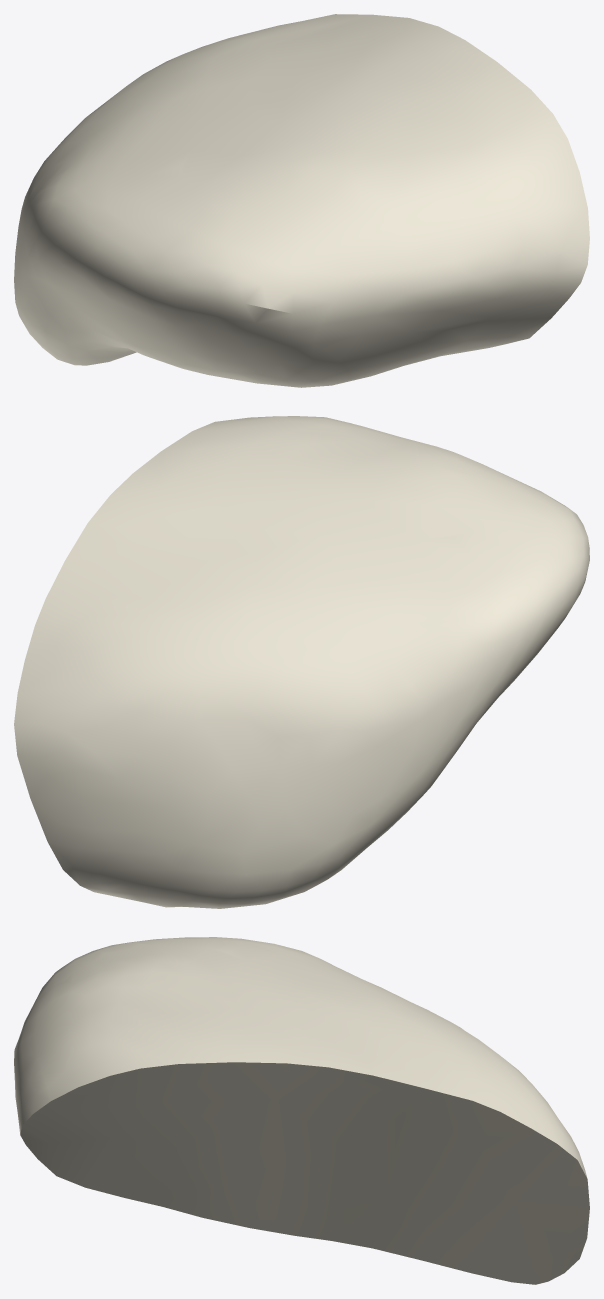
File: fma23301_mm1556m.glb
The picture shows the model from 3 angles, top to bottom: view 1: azimuth 30°, elevation 25°; view 2: azimuth 150°, elevation 25°; view 3: azimuth 270°, elevation 25°; orthographic projection. The views are drawn at different scales.
Parts seen in each view (by area): view 1: FMA23301_MM1556M; view 2: FMA23301_MM1556M; view 3: FMA23301_MM1556M.
Boxes of the visible parts, box(x1,y1,x2,y2) form: FMA23301_MM1556M: box(14, 14, 589, 387); FMA23301_MM1556M: box(14, 416, 589, 908); FMA23301_MM1556M: box(14, 937, 589, 1284).
Bounding box in the file's own units: 0.0184 × 0.0139 × 0.026.
